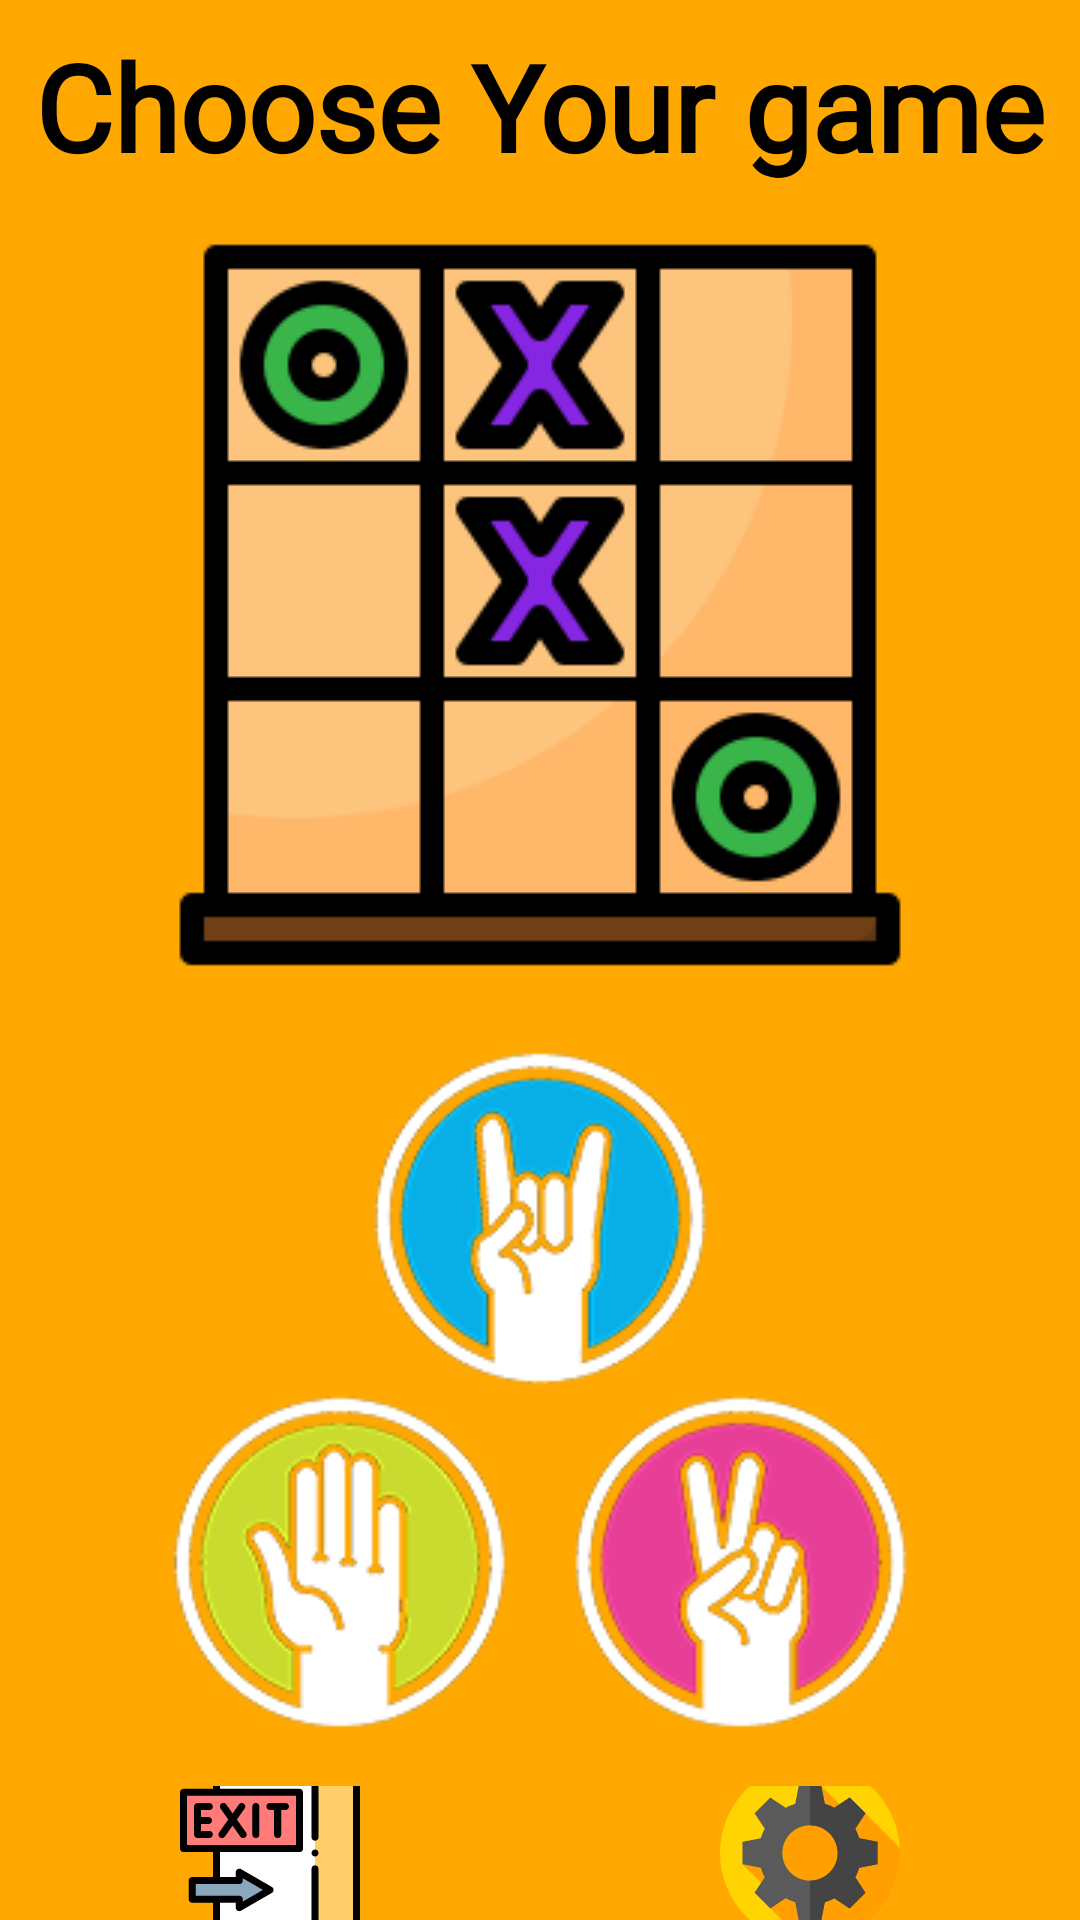

Icon click points for this 1080x1920 phone screenshot, format point (x, y):
settings: point (810, 1853)
